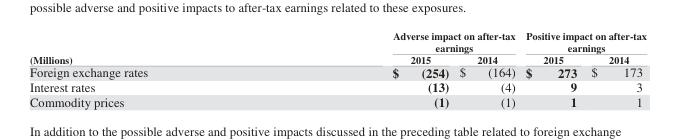table: (28, 29, 645, 108)
table column: (28, 29, 269, 108), (269, 29, 453, 108), (453, 29, 519, 108), (519, 29, 583, 108), (583, 29, 645, 108)
table column header: (28, 29, 645, 64)
table row: (28, 29, 645, 53), (28, 64, 645, 79), (28, 79, 645, 94), (28, 94, 645, 108), (28, 53, 645, 64)
table spanning cell: (28, 29, 269, 64), (269, 29, 519, 53), (519, 29, 645, 53)
